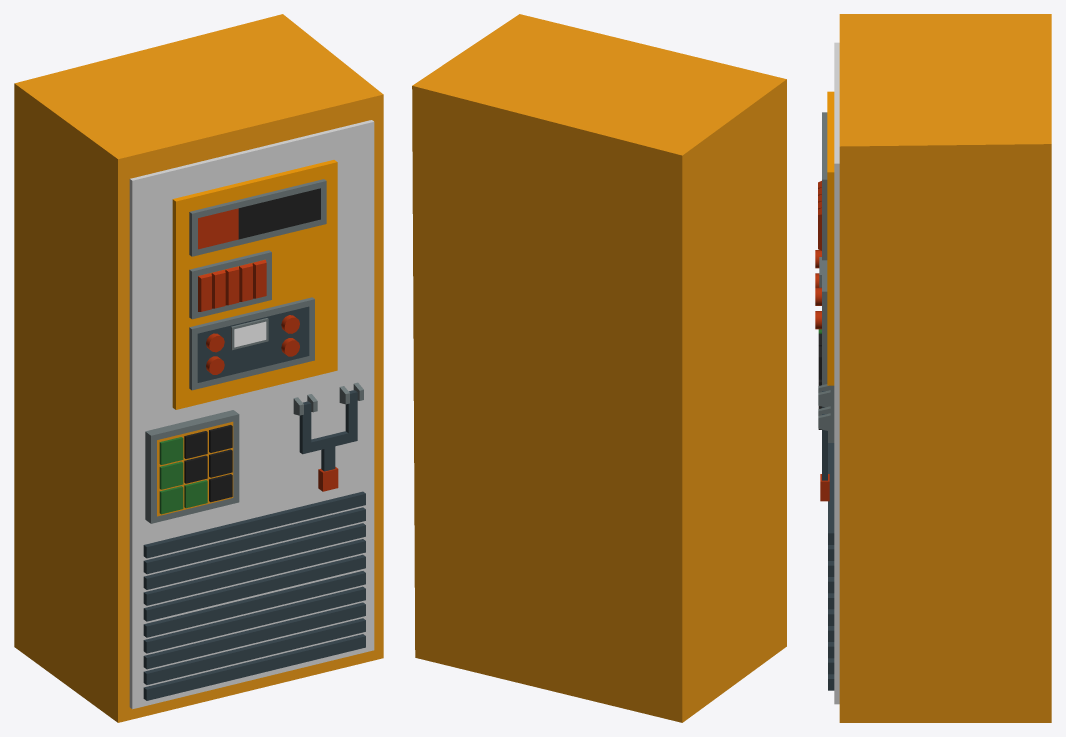
File: Power_Station_03_LV3.fbx
The picture shows the model from 3 angles, left to right: view 1: azimuth 30°, elevation 25°; view 2: azimuth 150°, elevation 25°; view 3: azimuth 270°, elevation 25°; orthographic projection. The views are drawn at different scales.
Parts seen in each view (by area): view 1: Power_Station_03_LV3; view 2: Power_Station_03_LV3; view 3: Power_Station_03_LV3.
Boxes of the visible parts, x1,y1,x2,y2 form: Power_Station_03_LV3: (14, 14, 383, 722); Power_Station_03_LV3: (412, 14, 786, 722); Power_Station_03_LV3: (815, 14, 1051, 722).
Size of the model in its own units: 184 by 372 by 137.
